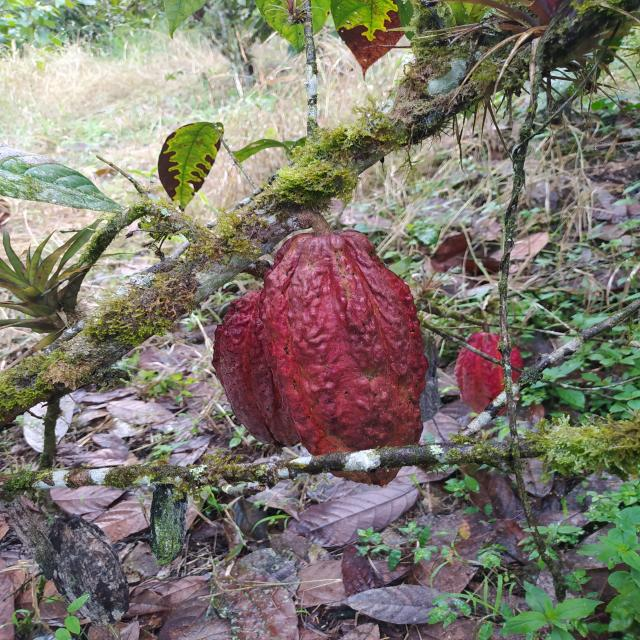Sana: (260, 230, 430, 486), (213, 288, 303, 446), (454, 330, 525, 417)
